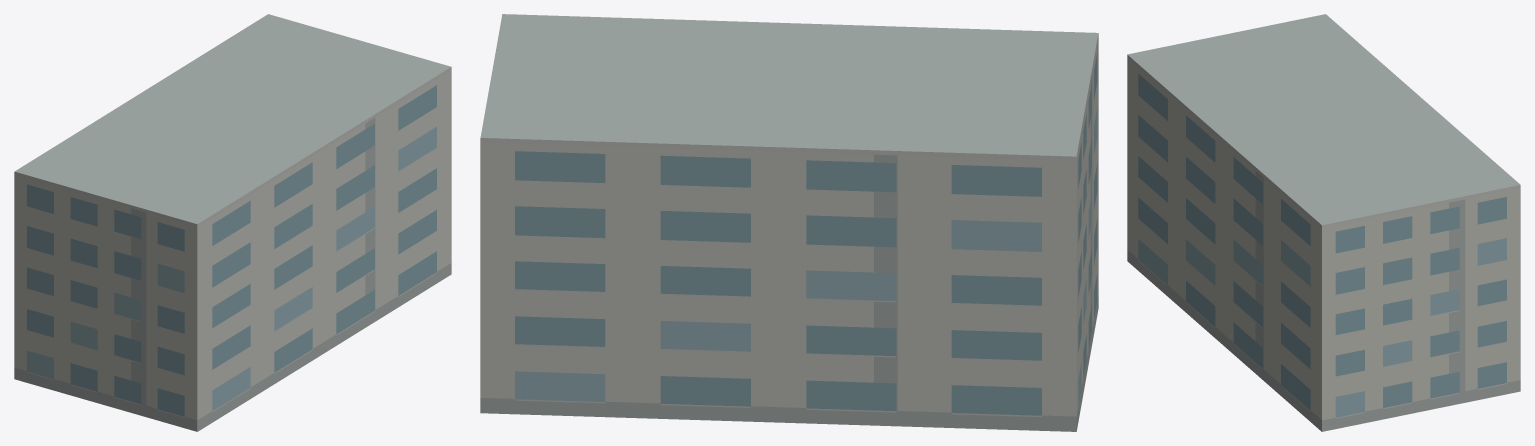
The model's file is residential-11ad3f59-65c6-44ae-bed5-319277d16fd2.glb.
The picture shows the model from 3 angles, left to right: view 1: azimuth 30°, elevation 25°; view 2: azimuth 150°, elevation 25°; view 3: azimuth 270°, elevation 25°; orthographic projection. The views are drawn at different scales.
Visible parts, largest first — view 1: residential-11ad3f59-65c6-44ae-bed5-319277d16fd2.tmp; view 2: residential-11ad3f59-65c6-44ae-bed5-319277d16fd2.tmp; view 3: residential-11ad3f59-65c6-44ae-bed5-319277d16fd2.tmp.
Part boxes in pixels (<box>): residential-11ad3f59-65c6-44ae-bed5-319277d16fd2.tmp: <box>14,14,451,431</box>; residential-11ad3f59-65c6-44ae-bed5-319277d16fd2.tmp: <box>480,14,1098,431</box>; residential-11ad3f59-65c6-44ae-bed5-319277d16fd2.tmp: <box>1127,14,1520,431</box>.
Size of the model in its own units: 33.45 by 15.25 by 26.33.
